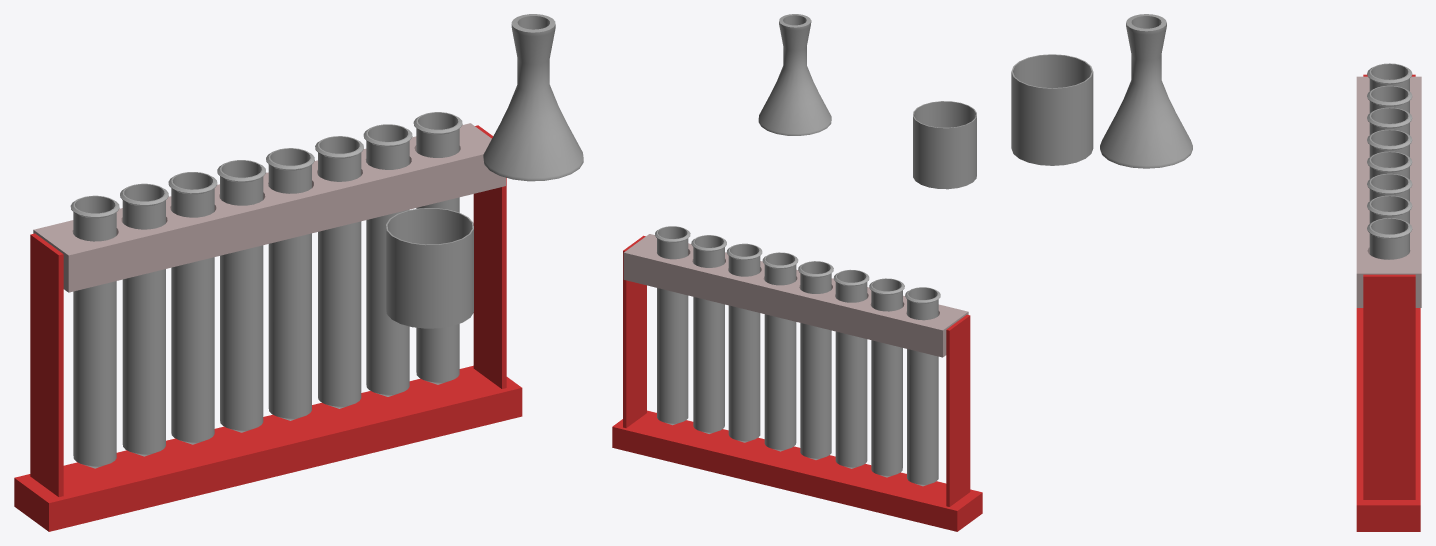
File: labPieces.fbx
The picture shows the model from 3 angles, left to right: view 1: azimuth 30°, elevation 25°; view 2: azimuth 150°, elevation 25°; view 3: azimuth 270°, elevation 25°; orthographic projection. The views are drawn at different scales.
Parts seen in each view (by area): view 1: pCube82, pCylinder8, pCylinder5; view 2: pCube82, pCylinder8, pCylinder5; view 3: pCube82, pCylinder8, pCylinder5.
Part boxes in pixels (box(x1,y1,x2,y2)): pCube82: box(14, 112, 522, 531); pCylinder8: box(386, 208, 473, 328); pCylinder5: box(483, 14, 583, 181); pCube82: box(612, 226, 982, 531); pCylinder8: box(913, 101, 976, 189); pCylinder5: box(758, 14, 831, 135); pCube82: box(1356, 63, 1421, 531); pCylinder8: box(1011, 54, 1093, 165); pCylinder5: box(1100, 14, 1192, 168).
Bounding box in the file's own units: 224 × 227 × 182.
